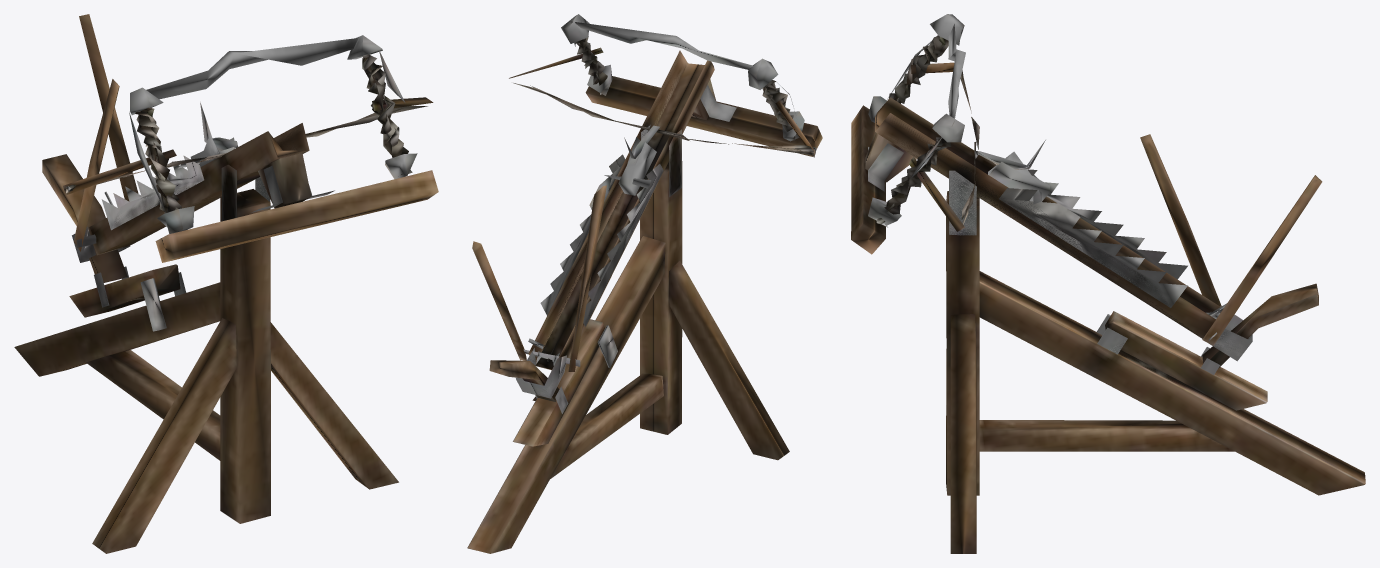
The model's file is ballista.lod1.glb.
3 renders of one model, left to right at view 1: azimuth 30°, elevation 25°; view 2: azimuth 150°, elevation 25°; view 3: azimuth 270°, elevation 25°, orthographic. The views are drawn at different scales.
Visible parts, largest first — view 1: defaultMaterial; view 2: defaultMaterial; view 3: defaultMaterial.
Part boxes in pixels (bbox=[...]): defaultMaterial: bbox=[14, 14, 438, 553]; defaultMaterial: bbox=[467, 14, 822, 553]; defaultMaterial: bbox=[851, 14, 1365, 553].
Bounding box in the file's own units: 1.83 × 2.22 × 2.4.
1 material, 1 textured.
